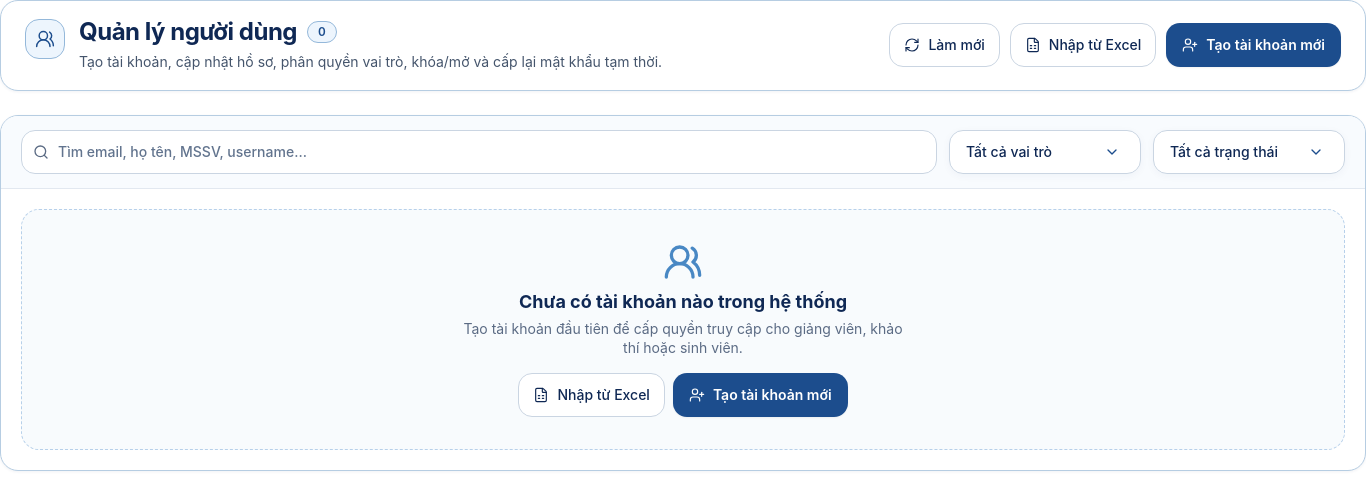
Test: AdminUsersPage › renders empty state and 401 re-login state when unauthorized
Expected: the heading "Chưa có tài khoản nào trong hệ thống" is shown, [519,290,847,315]
Click the button "Làm mới".
click(945, 45)  # box [889,23,1000,67]
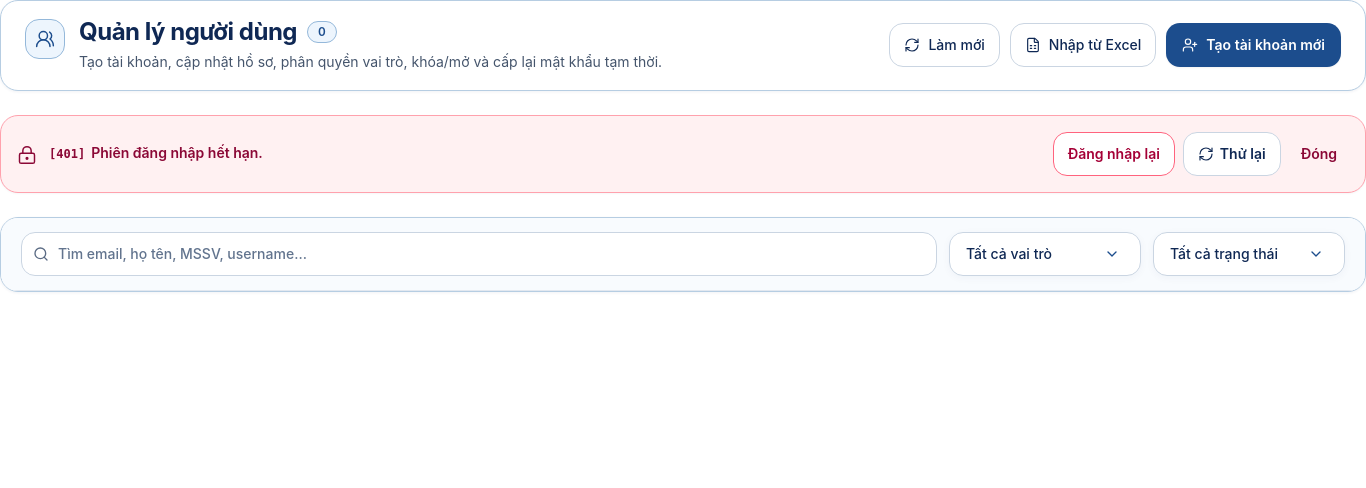
Result: the heading "Chưa có tài khoản nào trong hệ thống" is gone
